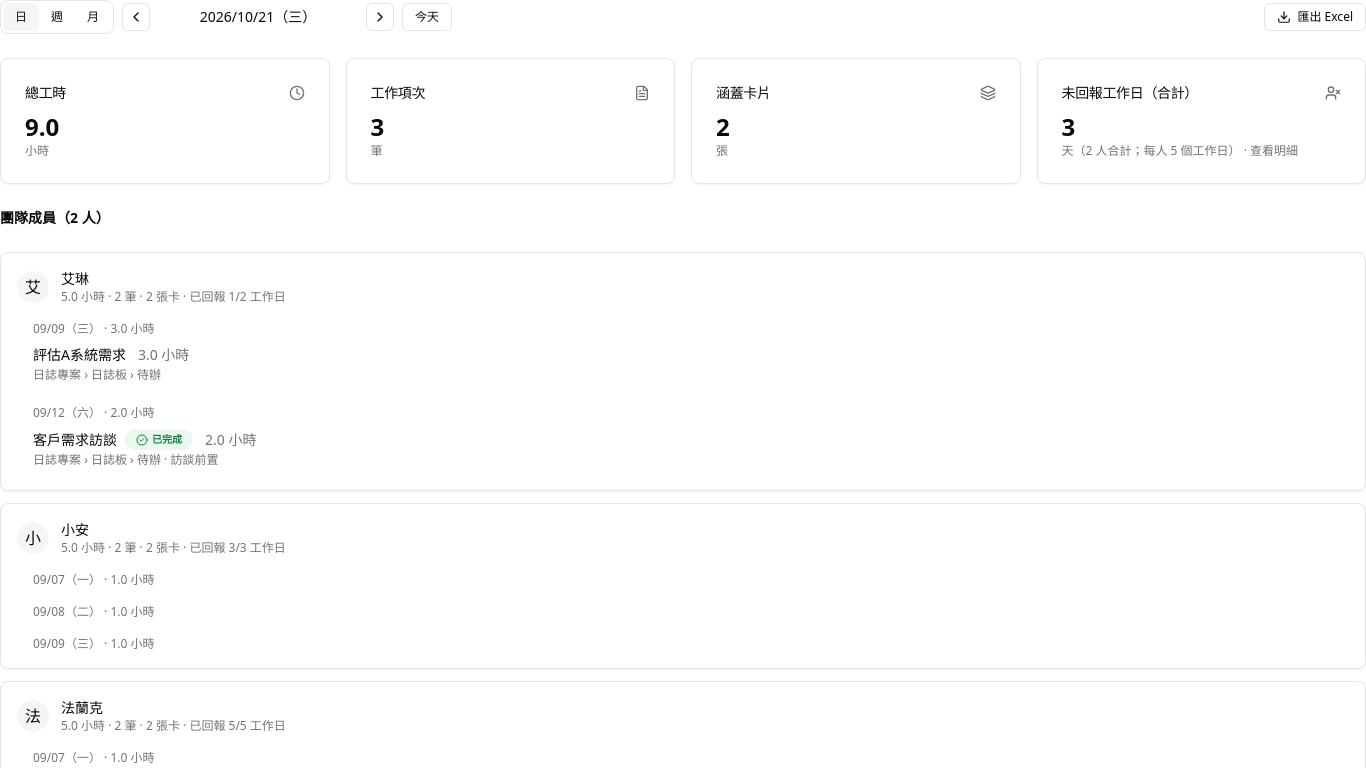
Scenario: WorkLogReport › 點擊第四張 KPI 開啟漏報明細：成員與排序沿用 missingWorkdays，日期與分母逐字吃後端
This screenshot has width=1366, height=768.
Expected: the text "評估A系統需求" is shown, [33, 345, 126, 365]
Click the button with test id "worklog-kpi-missing-button": (1201, 121) [1036, 58, 1365, 184]
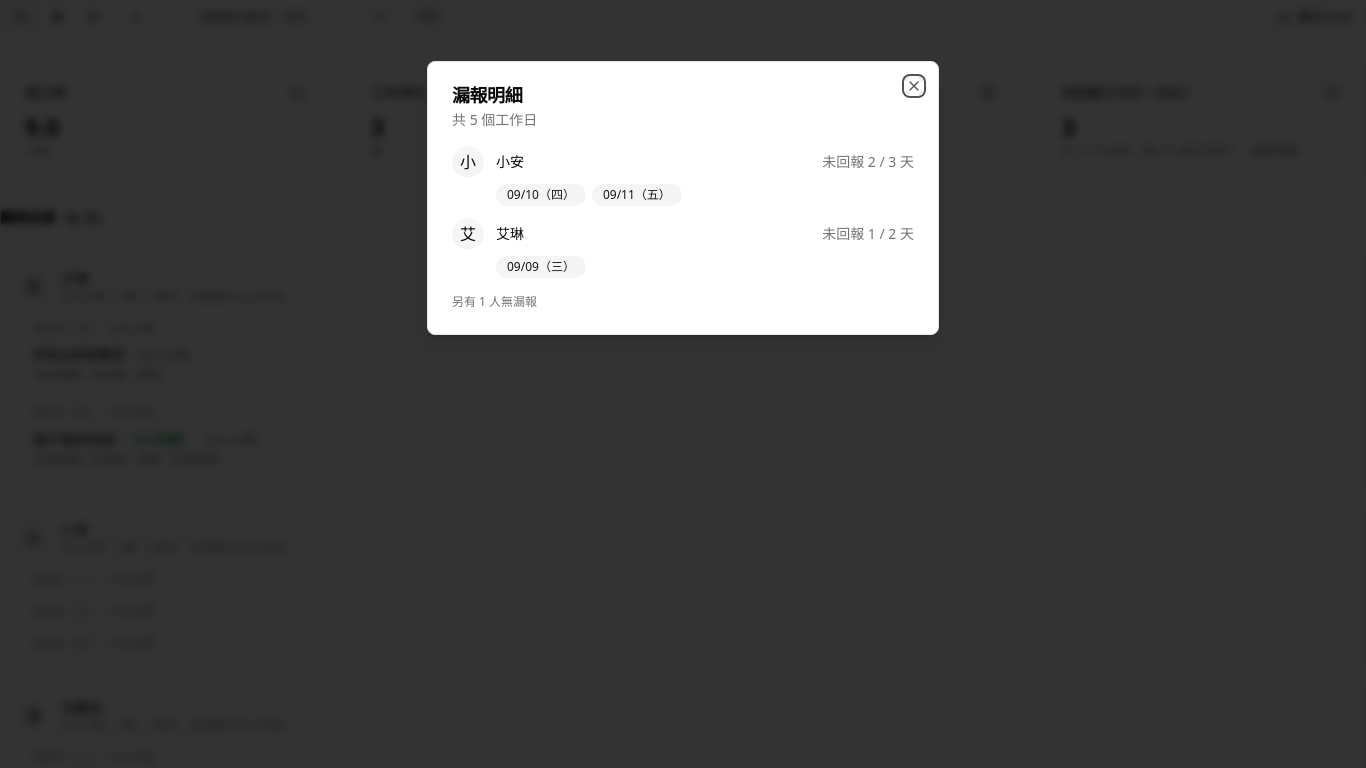
Expected: the heading "漏報明細" is shown, [452, 83, 522, 107]
Expected: the text "共 5 個工作日" is shown, [452, 110, 537, 129]
Expected: the number of elements with test id "worklog-missing-member" is 2, [452, 146, 914, 206]; [452, 218, 914, 278]
